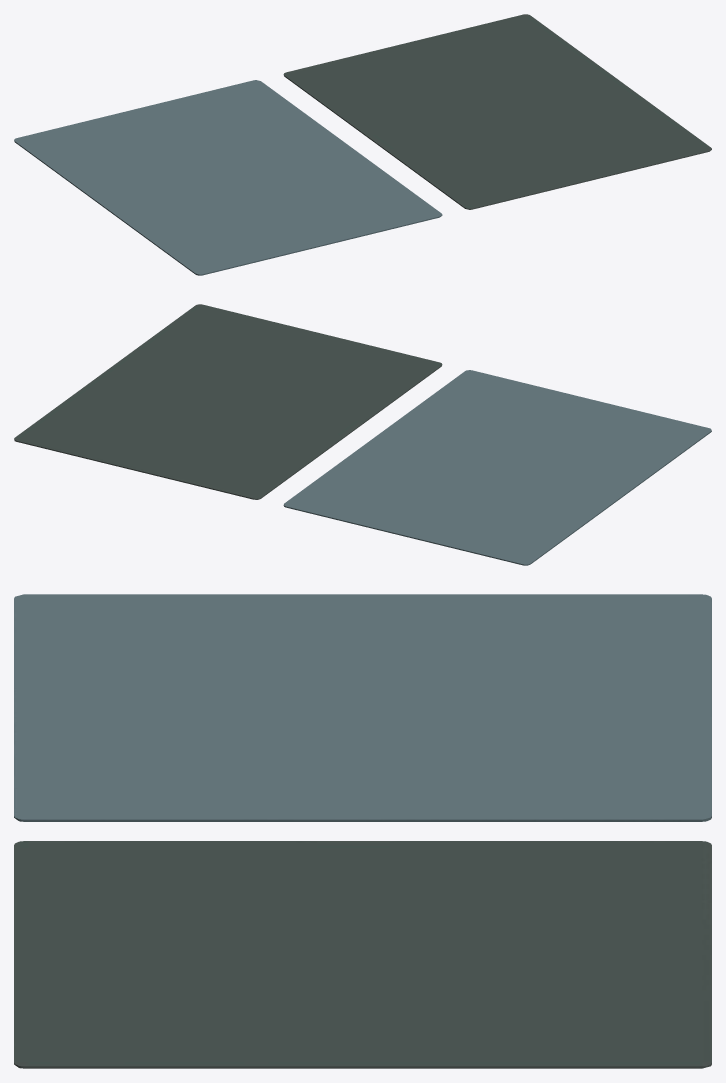
Rendered from finfordela_deska_do_krojenia_gietka_50613016.glb.
3 renders of one model, top to bottom at view 1: azimuth 30°, elevation 25°; view 2: azimuth 150°, elevation 25°; view 3: azimuth 270°, elevation 25°, orthographic. The views are drawn at different scales.
Parts seen in each view (by area): view 1: finfordela_deska_do_krojenia_gietka_50613016; view 2: finfordela_deska_do_krojenia_gietka_50613016; view 3: finfordela_deska_do_krojenia_gietka_50613016.
Boxes of the visible parts, x1=… form: finfordela_deska_do_krojenia_gietka_50613016: x1=14, y1=14, x2=711, y2=275; finfordela_deska_do_krojenia_gietka_50613016: x1=14, y1=304, x2=711, y2=565; finfordela_deska_do_krojenia_gietka_50613016: x1=14, y1=594, x2=711, y2=1068.
Size of the model in its own units: 0.5761 by 0.00122 by 0.36.
2 materials, 2 textured.
